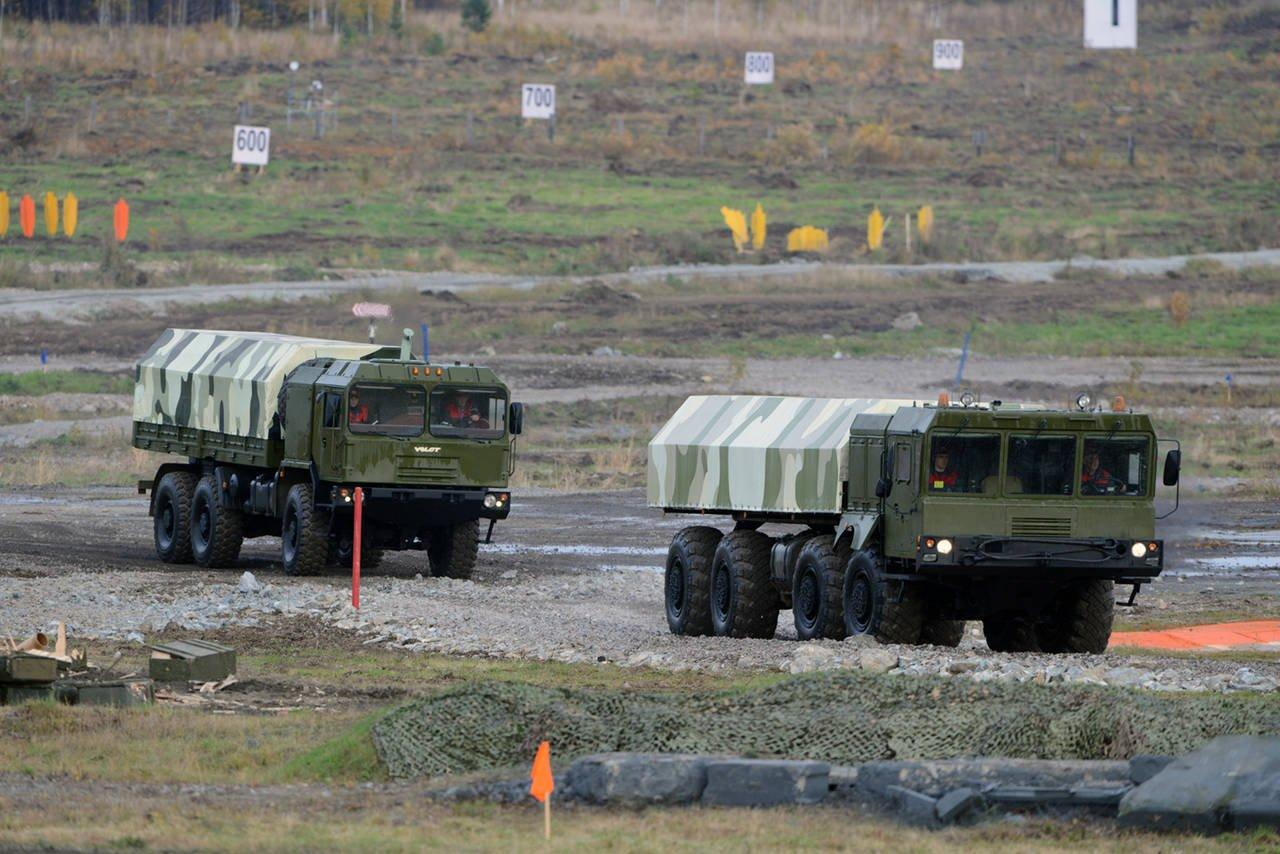truck: (640, 396, 1185, 652), (128, 324, 531, 581)
